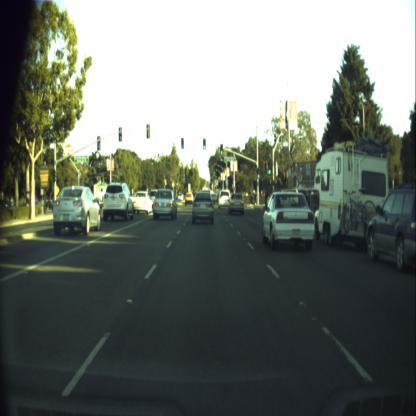Green: (180, 137, 184, 149), (202, 138, 206, 150), (268, 161, 271, 175), (256, 168, 260, 178), (220, 143, 223, 155), (101, 176, 103, 185)
